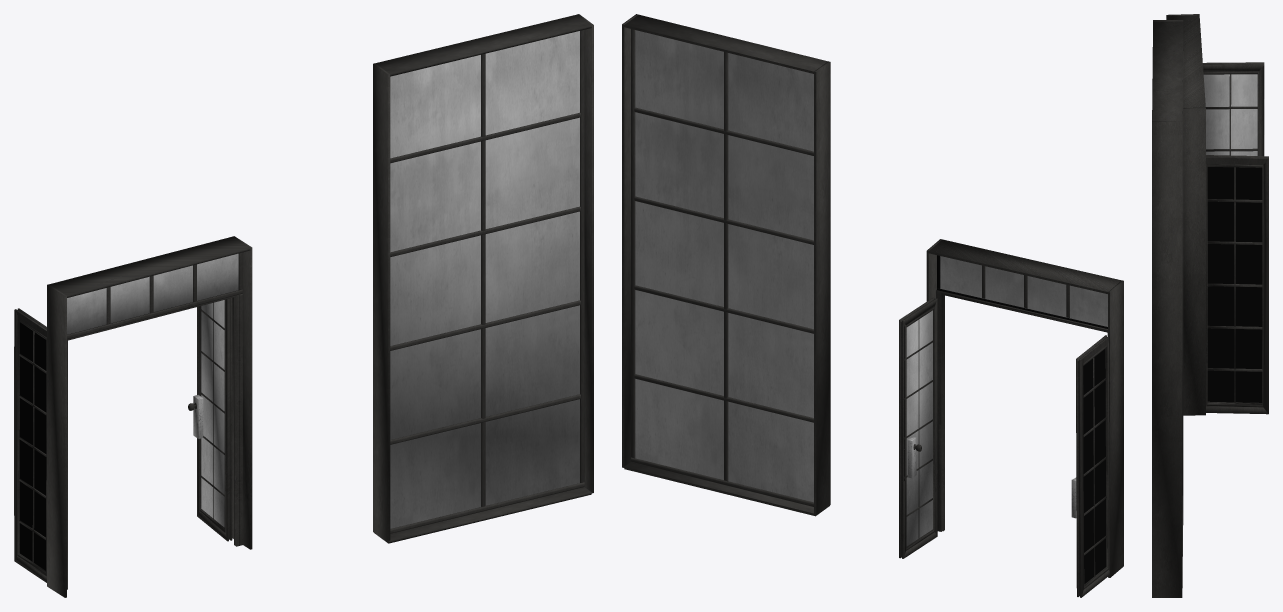
The model's file is puertasTexturizadas.obj.
3 views of the same model, side by side, from view 1: azimuth 30°, elevation 25°; view 2: azimuth 150°, elevation 25°; view 3: azimuth 270°, elevation 25° (orthographic). The views are drawn at different scales.
Parts seen in each view (by area): view 1: obj:Box2645, polySurface6; view 2: obj:Box2645, polySurface6; view 3: polySurface6, obj:Box2645.
Boxes of the visible parts, left/top/right/bottom form: obj:Box2645: left=373, top=14, right=593, bottom=543; polySurface6: left=14, top=236, right=252, bottom=597; obj:Box2645: left=622, top=14, right=830, bottom=516; polySurface6: left=899, top=239, right=1123, bottom=597; polySurface6: left=1166, top=14, right=1268, bottom=415; obj:Box2645: left=1152, top=20, right=1183, bottom=597.
Bounding box in the file's own units: 3.68 × 3.15 × 0.6987.
5 materials, 4 textured.
